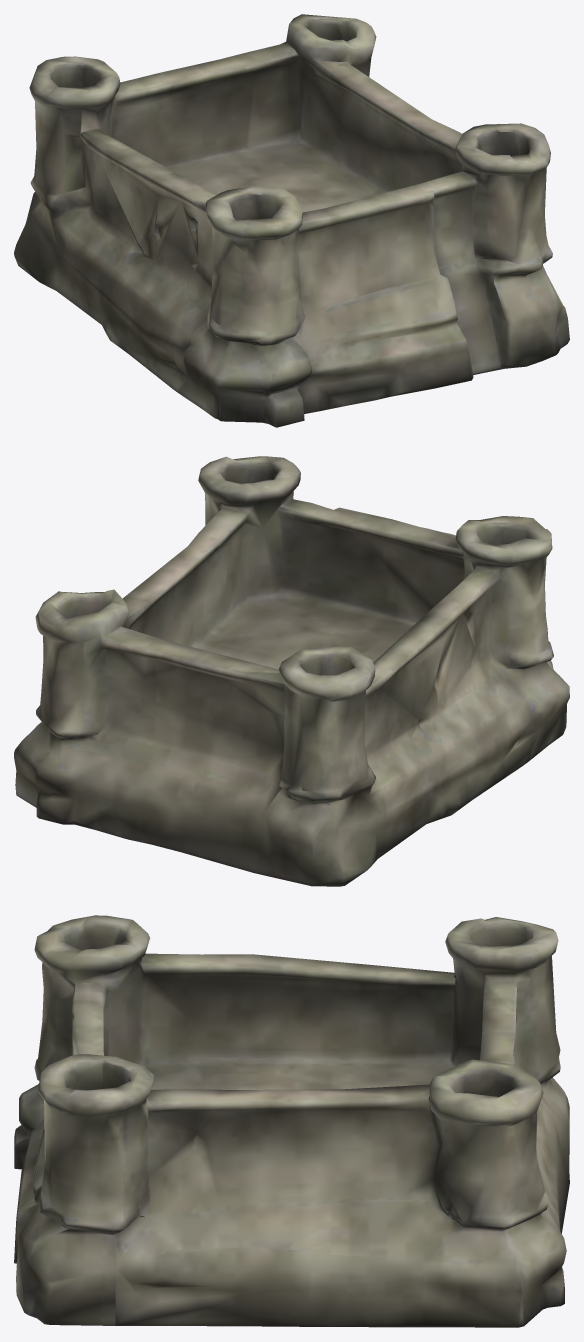
File: weathered-limestone-battlement-wall-v001.glb
The picture shows the model from 3 angles, top to bottom: view 1: azimuth 30°, elevation 25°; view 2: azimuth 150°, elevation 25°; view 3: azimuth 270°, elevation 25°; orthographic projection. The views are drawn at different scales.
Visible parts, largest first — view 1: weathered-limestone-battlement-wall; view 2: weathered-limestone-battlement-wall; view 3: weathered-limestone-battlement-wall.
Part boxes in pixels (x1,y1,x2,y2): weathered-limestone-battlement-wall: [14, 14, 569, 427]; weathered-limestone-battlement-wall: [14, 456, 569, 886]; weathered-limestone-battlement-wall: [14, 915, 569, 1327].
Bounding box in the file's own units: 4.53 × 2.42 × 5.33.
Materials: 1 (1 with a texture image).
